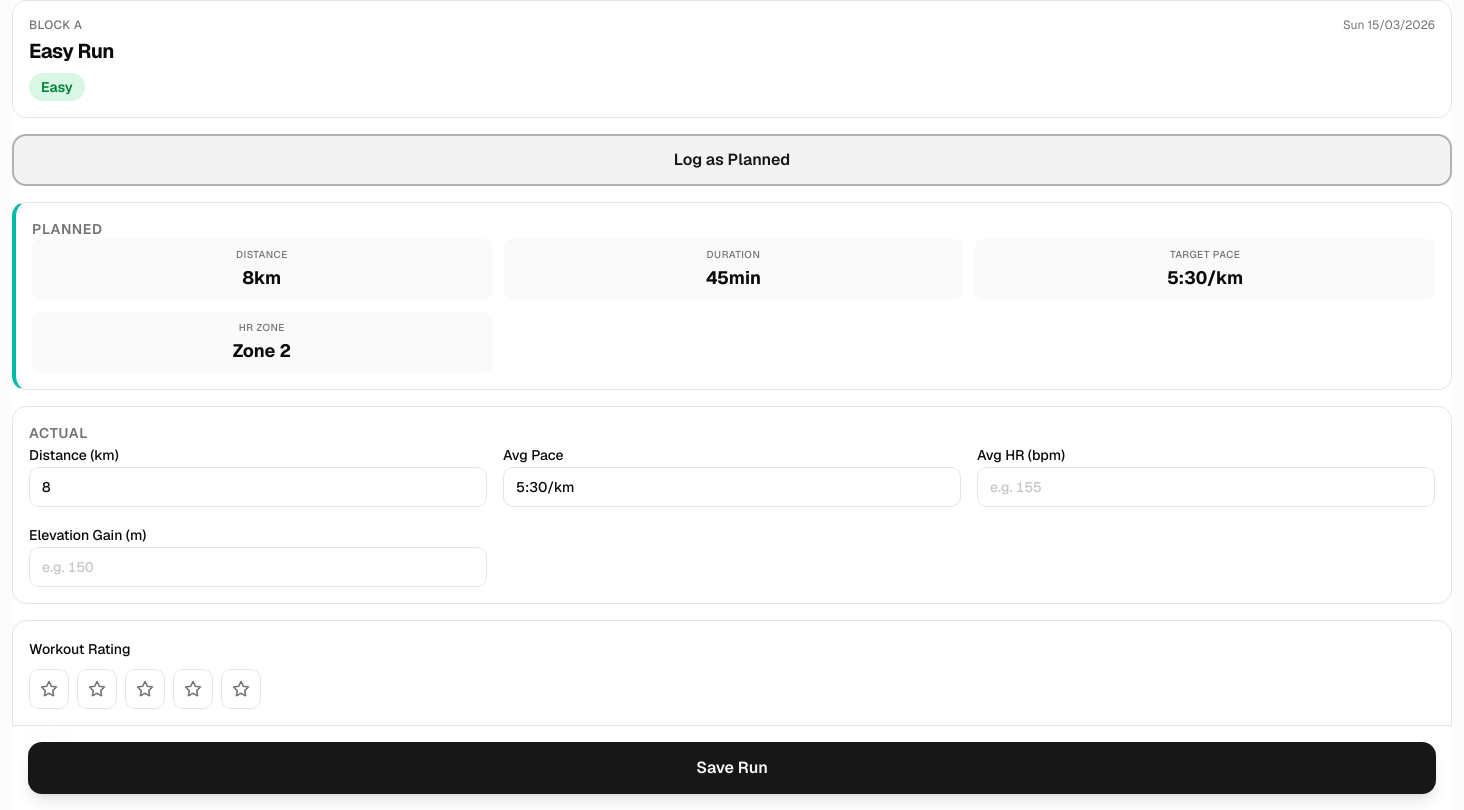
it: T135 — numeric input migration: running-logging-form › distance input rejects letters
This screenshot has width=1464, height=810.
Clear the field with test id "actual-distance". click: (258, 487)
box: [29,467,487,507]
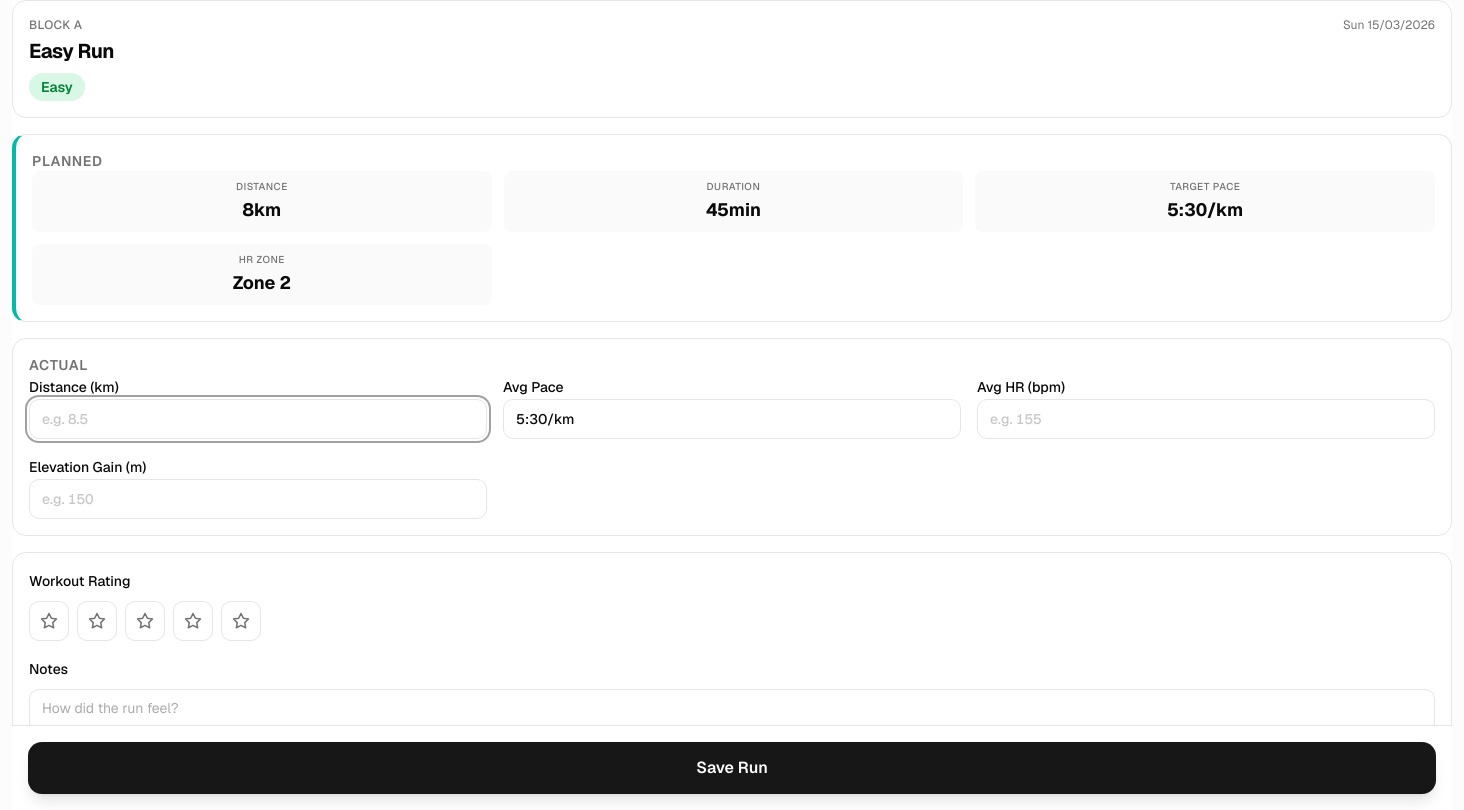
Type "8abc.5" into the field with test id "actual-distance". click: (258, 419)
box: [29,399,487,439]
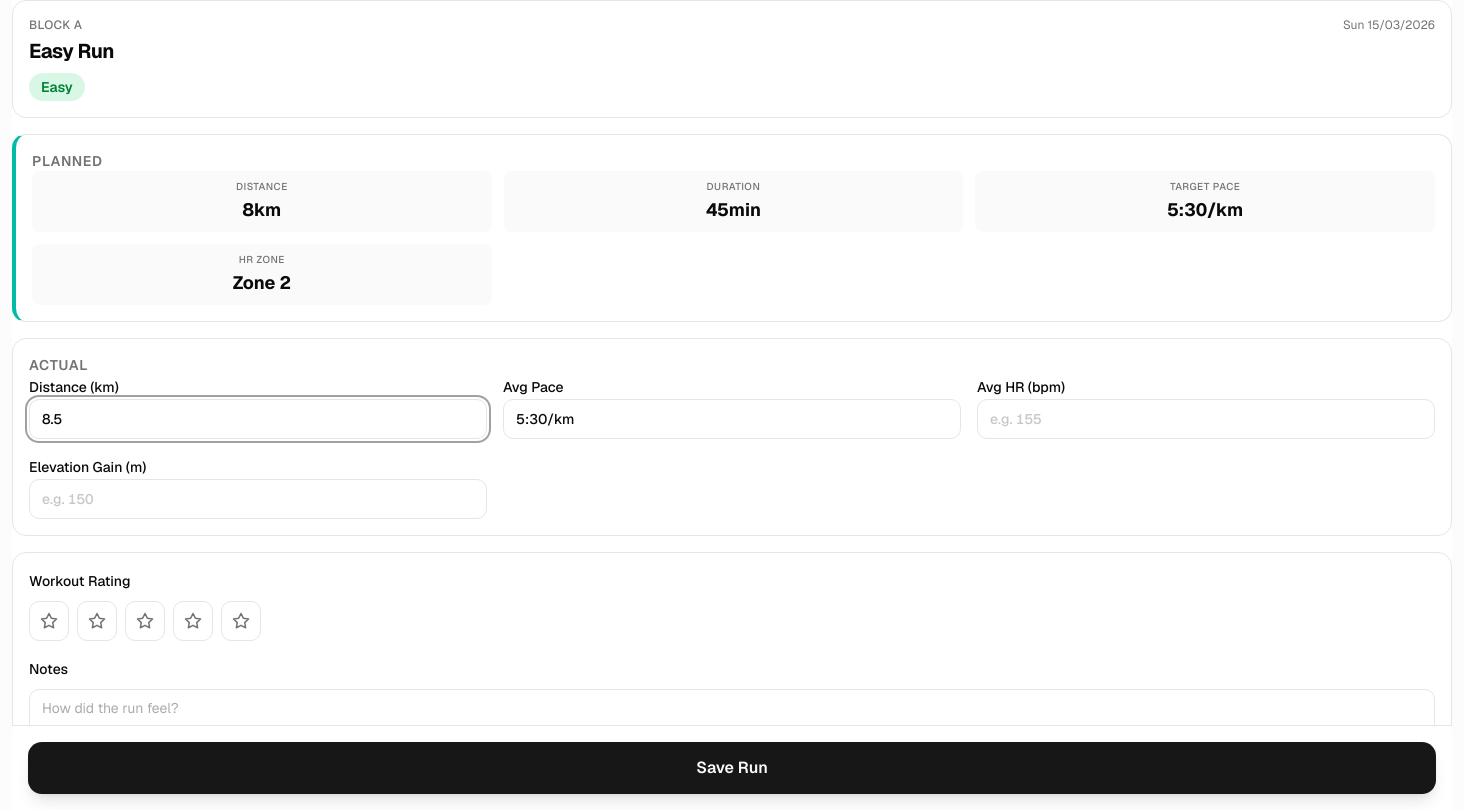
Check: the field with test id "actual-distance" holds "8.5", box [29,399,487,439]
